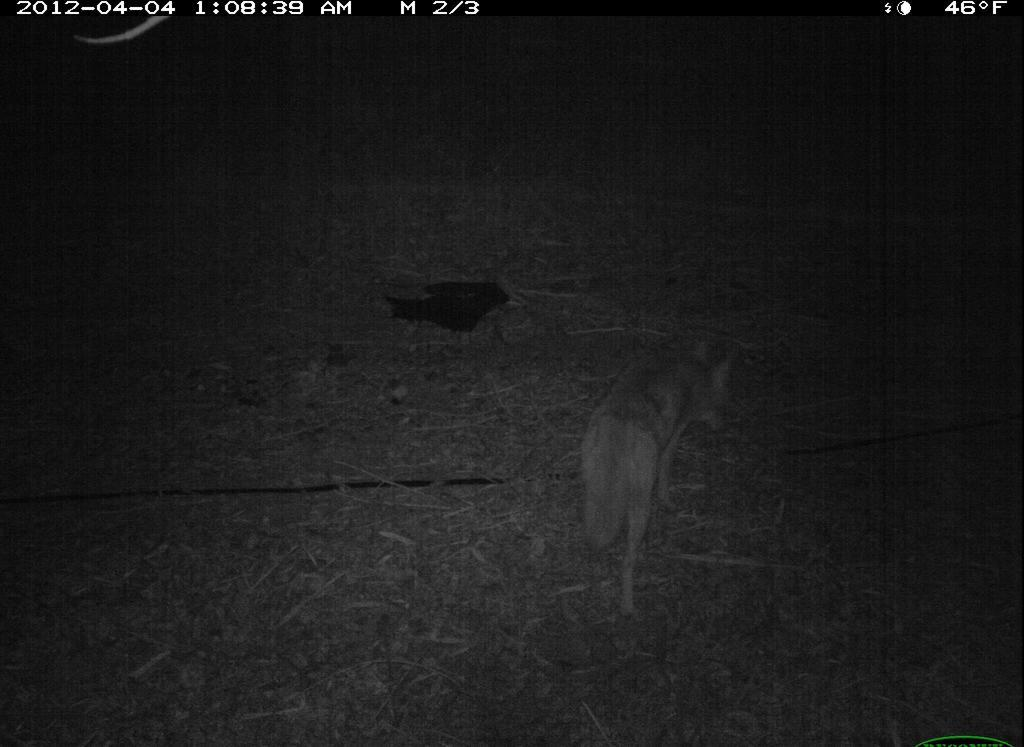coyote: (569, 317, 745, 621)
